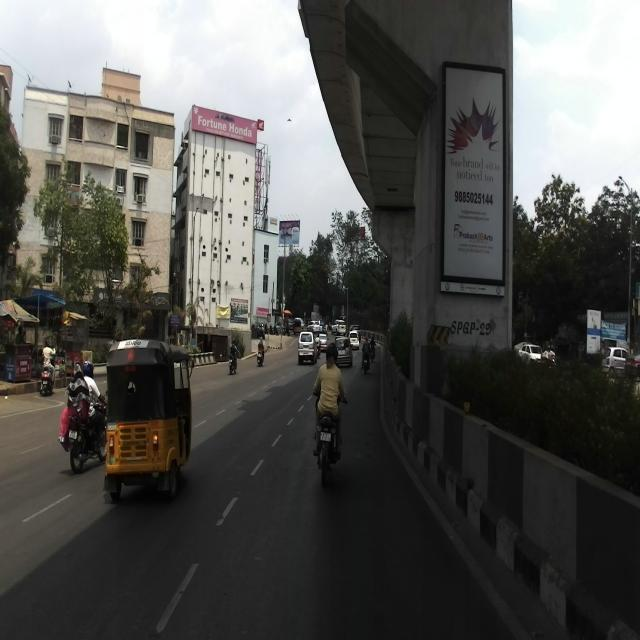autorickshaw: (103, 338, 195, 502)
car: (298, 328, 317, 365), (334, 336, 353, 367)
motorcycle: (311, 387, 347, 488), (67, 388, 109, 474)
